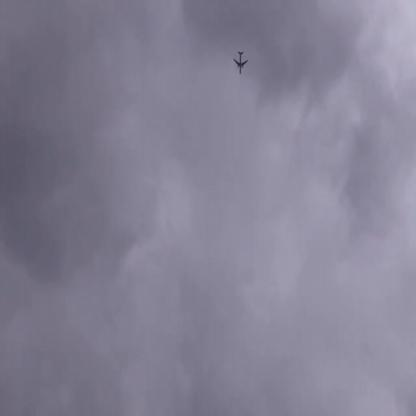CIV_Plane: (228, 48, 252, 76)
